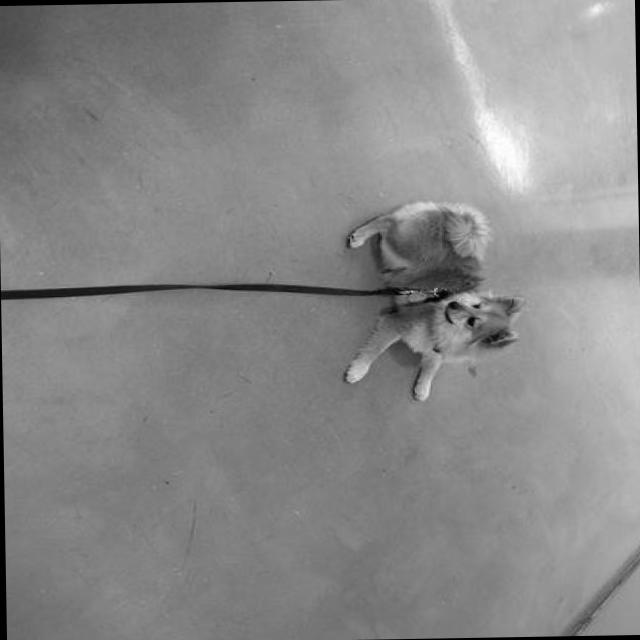laying down: (337, 196, 529, 405)
